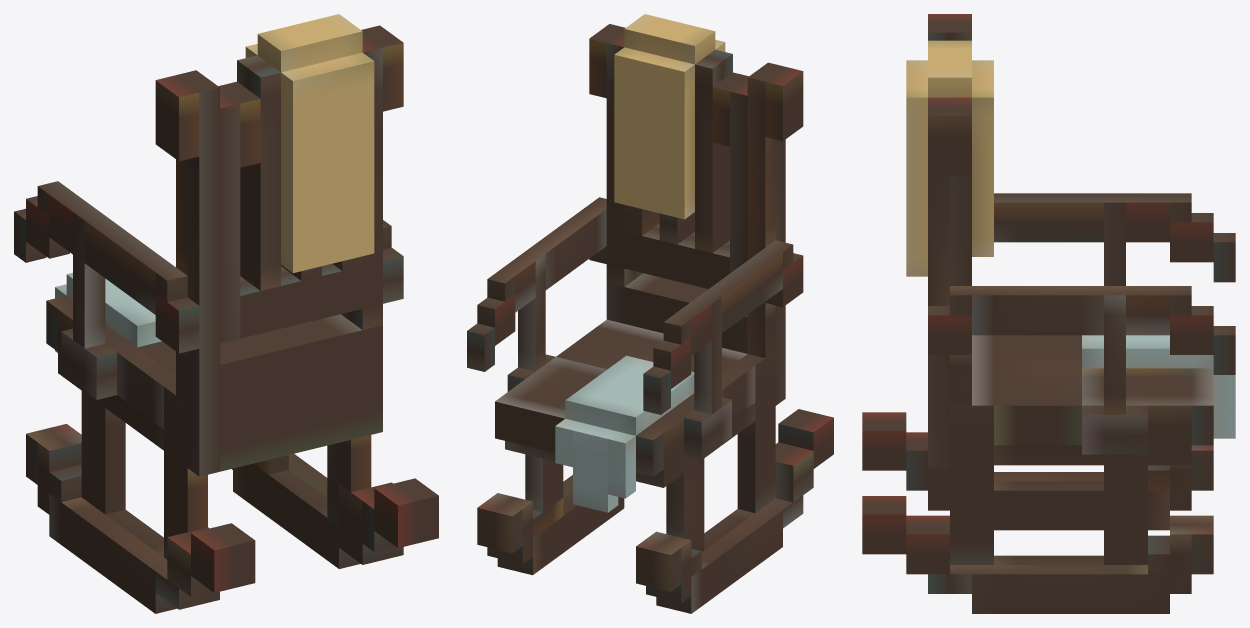
Rendered from RockingChairWithCloths_00.obj.
3 renders of one model, left to right at view 1: azimuth 30°, elevation 25°; view 2: azimuth 150°, elevation 25°; view 3: azimuth 270°, elevation 25°, orthographic. The views are drawn at different scales.
Visible parts, largest first — view 1: RockingChairWithCloths_00; view 2: RockingChairWithCloths_00; view 3: RockingChairWithCloths_00.
Part boxes in pixels (x1=…): RockingChairWithCloths_00: x1=14, y1=14, x2=438, y2=613; RockingChairWithCloths_00: x1=467, y1=14, x2=833, y2=613; RockingChairWithCloths_00: x1=862, y1=14, x2=1235, y2=613.
Bounding box in the file's own units: 0.55 × 1.3 × 0.85.
